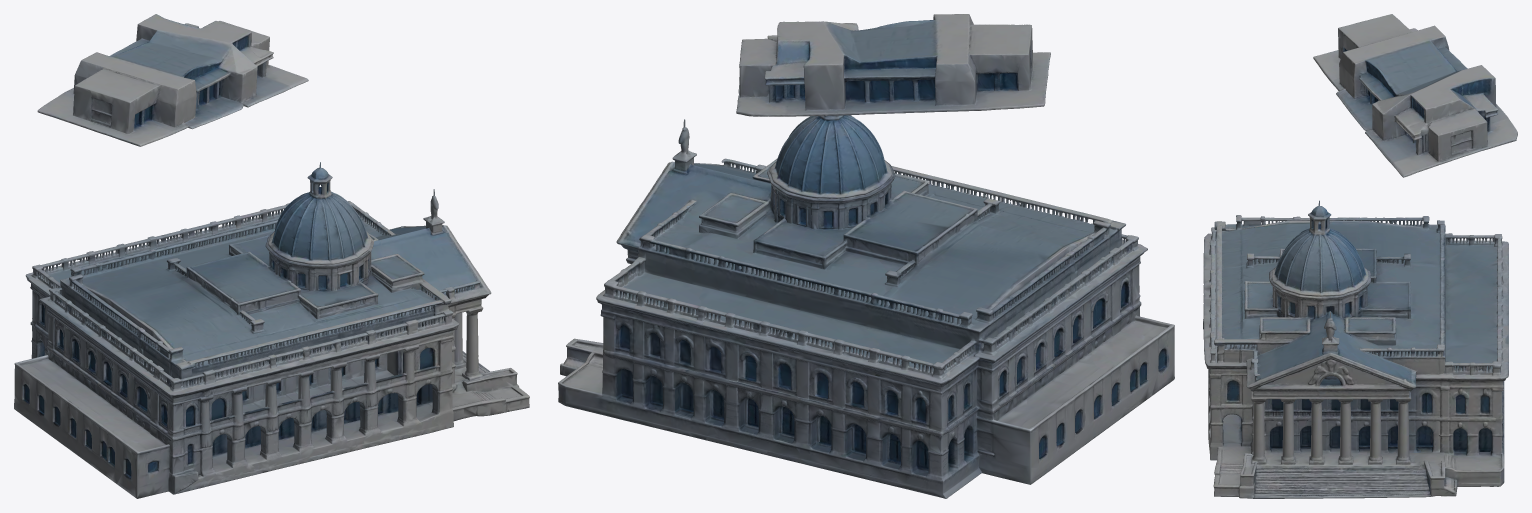
File: court-of-final-appeal.glb
3 views of the same model, side by side, from view 1: azimuth 30°, elevation 25°; view 2: azimuth 150°, elevation 25°; view 3: azimuth 270°, elevation 25° (orthographic). The views are drawn at different scales.
Parts seen in each view (by area): view 1: tripo_node_c9030c30-052b-4f52-9c92-355c12ba1828; view 2: tripo_node_c9030c30-052b-4f52-9c92-355c12ba1828; view 3: tripo_node_c9030c30-052b-4f52-9c92-355c12ba1828.
Boxes of the visible parts, x1=… form: tripo_node_c9030c30-052b-4f52-9c92-355c12ba1828: x1=14, y1=14, x2=529, y2=498; tripo_node_c9030c30-052b-4f52-9c92-355c12ba1828: x1=558, y1=14, x2=1174, y2=498; tripo_node_c9030c30-052b-4f52-9c92-355c12ba1828: x1=1203, y1=14, x2=1517, y2=498.
Size of the model in its own units: 1 by 0.8198 by 0.731.
1 material, 1 textured.
